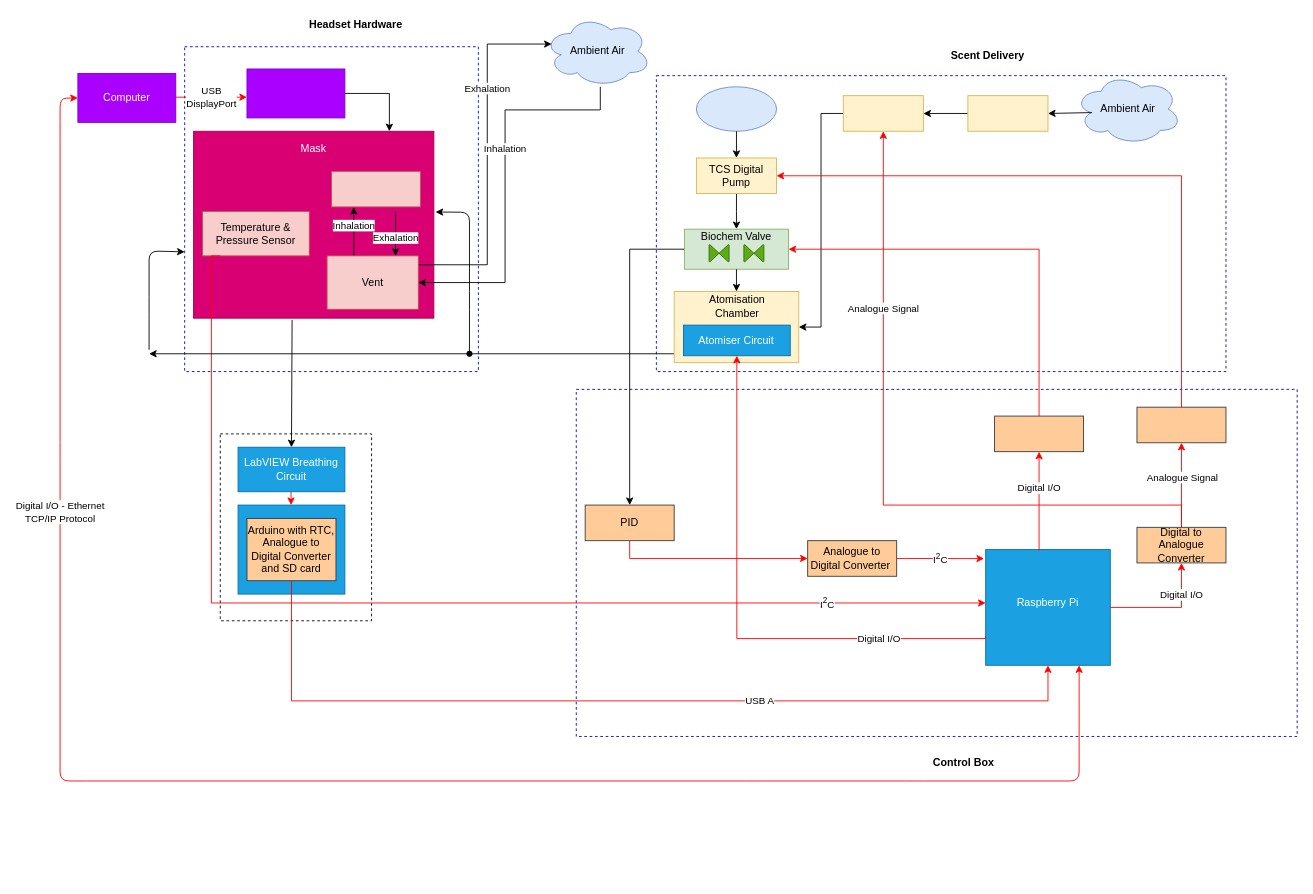
Image size: 1313x894. Some labels were removed from this diagram. Each missing label, with the centre of its shape:
"Biochem Valve Driver (L298N)" belongs at (x=1039, y=433).
"Digital Pump Driver (Stepper Motor Driver)" belongs at (x=1181, y=424).
"Filter" belongs at (x=1007, y=113).
"KNF Pump" belongs at (x=882, y=113).
"Olfactory Organ" belongs at (x=376, y=188).
"VR Headset" belongs at (x=295, y=93).
"Water" belongs at (x=736, y=108).
